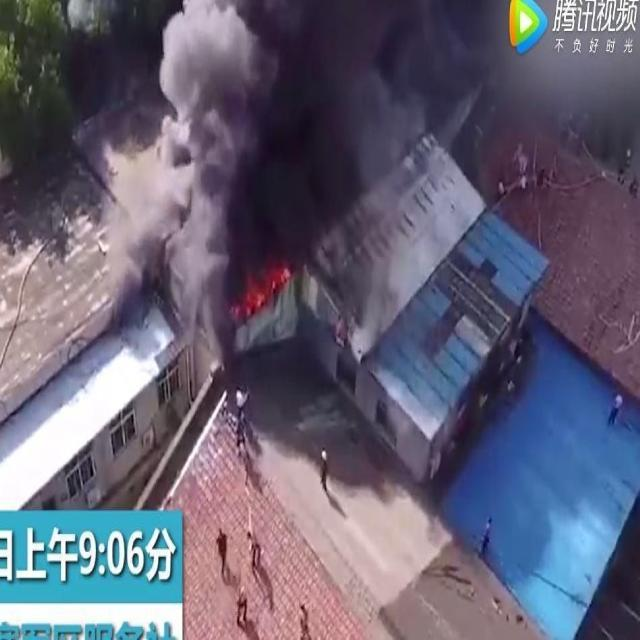Fire: (230, 264, 290, 314)
Smoke: (107, 1, 506, 253), (99, 255, 228, 364)
